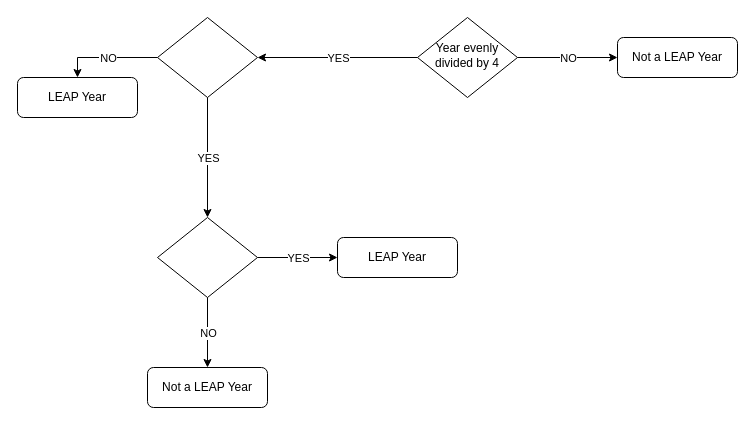
This 755x425 diagram has some shape labels left out. Here are the shapes that lost their labels. From the top down, the box of each, then its label:
(156, 16, 258, 98): Year evenly divided by 100
(156, 216, 258, 298): Year evenly divided by 400
